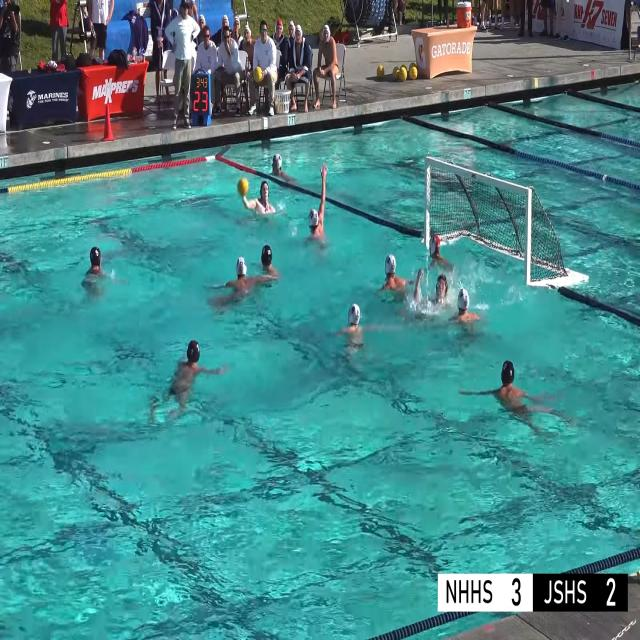ball: (238, 178, 248, 195)
